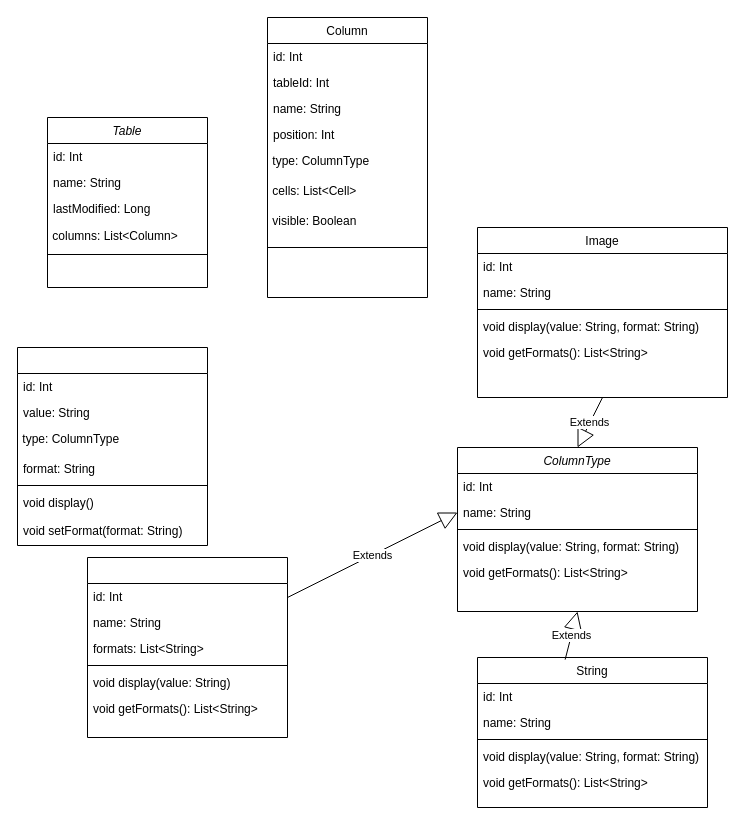
The diagram is 745 pixels wide and 825 high, and some of its shapes have lost their labels. Here are the shapes that lost their labels. From the top down, the box of each, then its label:
(16, 346, 208, 546): Cell
(86, 556, 288, 738): Date
